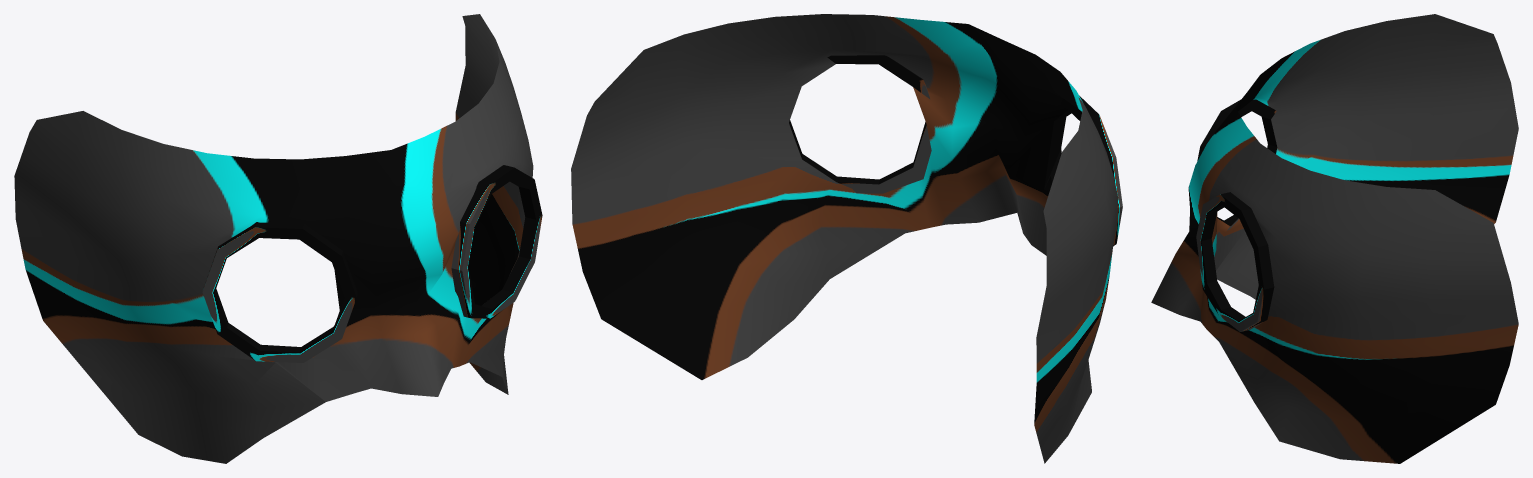
File: TruthAnimation1.fbx
3 views of the same model, side by side, from view 1: azimuth 30°, elevation 25°; view 2: azimuth 150°, elevation 25°; view 3: azimuth 270°, elevation 25° (orthographic). The views are drawn at different scales.
Parts seen in each view (by area): view 1: pasted__polySurface1; view 2: pasted__polySurface1; view 3: pasted__polySurface1.
Boxes of the visible parts, left/top/right/bottom form: pasted__polySurface1: left=14, top=14, right=542, bottom=463; pasted__polySurface1: left=571, top=14, right=1122, bottom=463; pasted__polySurface1: left=1151, top=14, right=1518, bottom=463.
Bounding box in the file's own units: 6.88 × 4.65 × 5.34.
